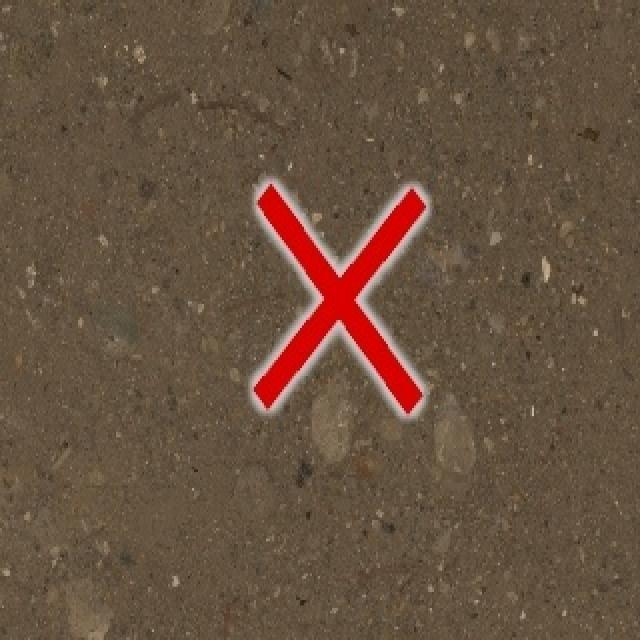x_marker: (253, 183, 425, 412)
